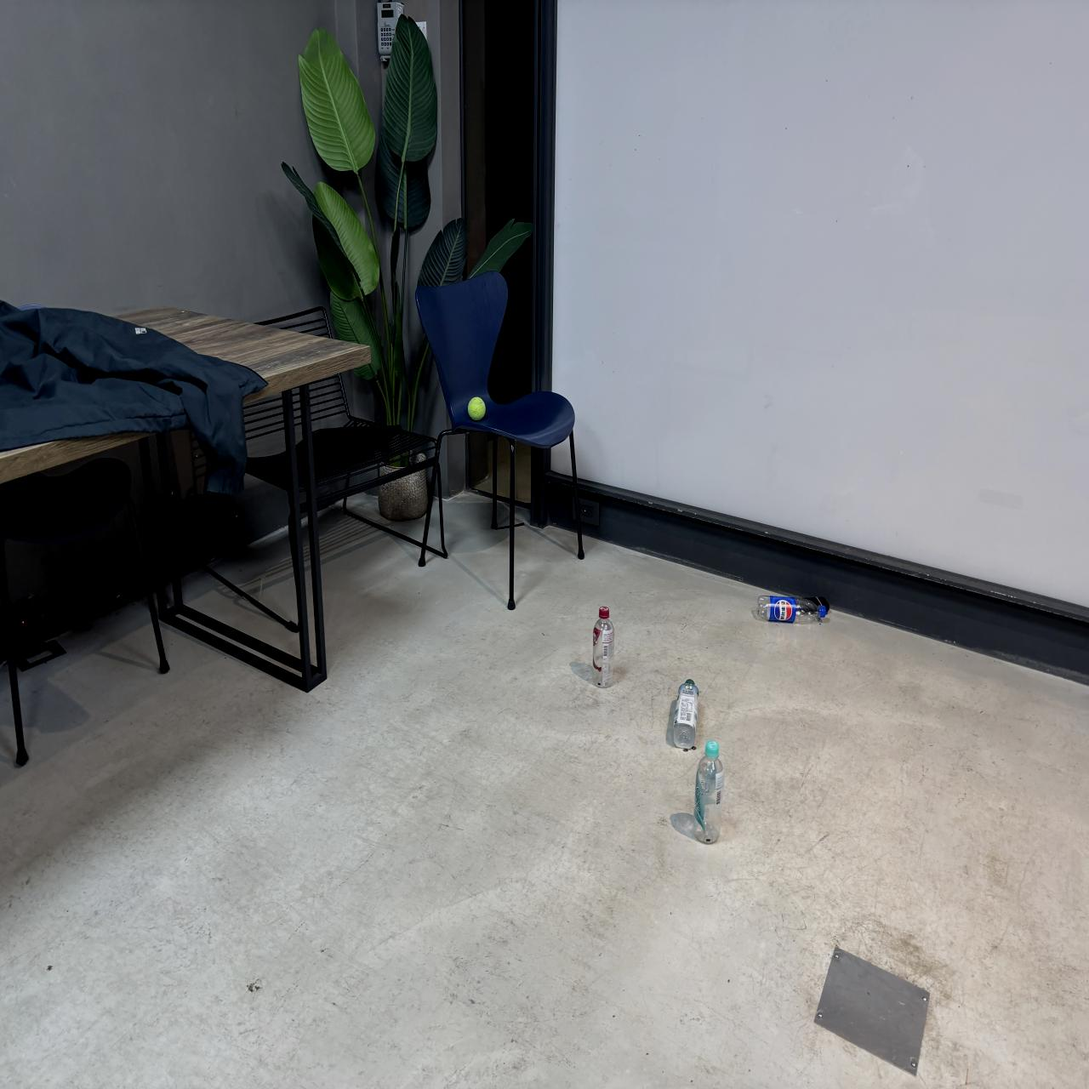plastic-bottle: (695, 741, 724, 843), (593, 607, 615, 687)
tennisball: (468, 398, 485, 420)
